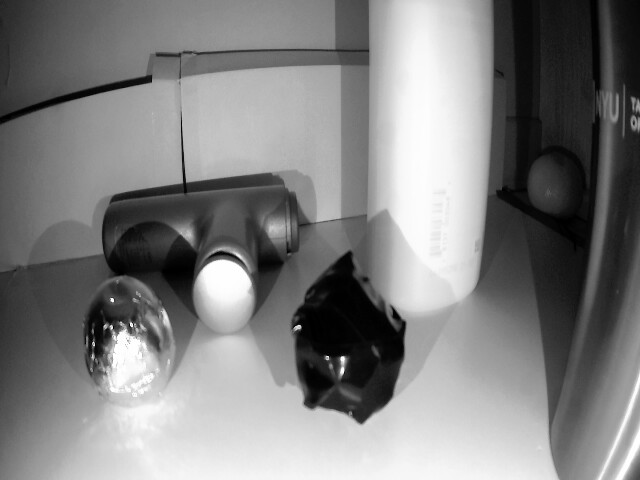black: (77, 281, 177, 407)
silver: (288, 267, 408, 424)
